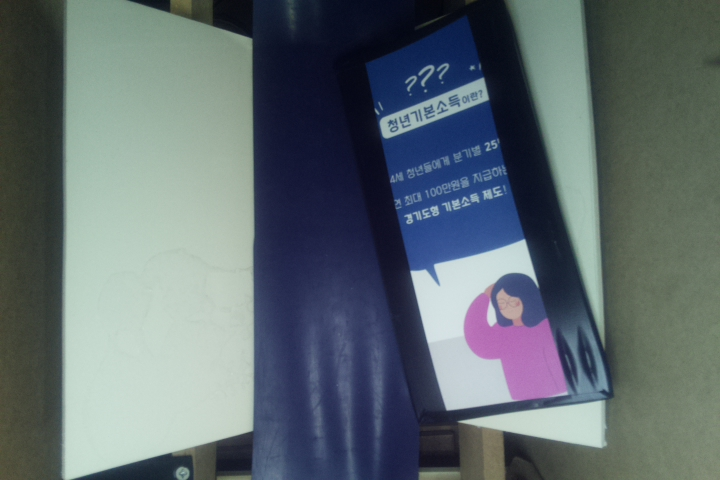book: (342, 3, 613, 426)
